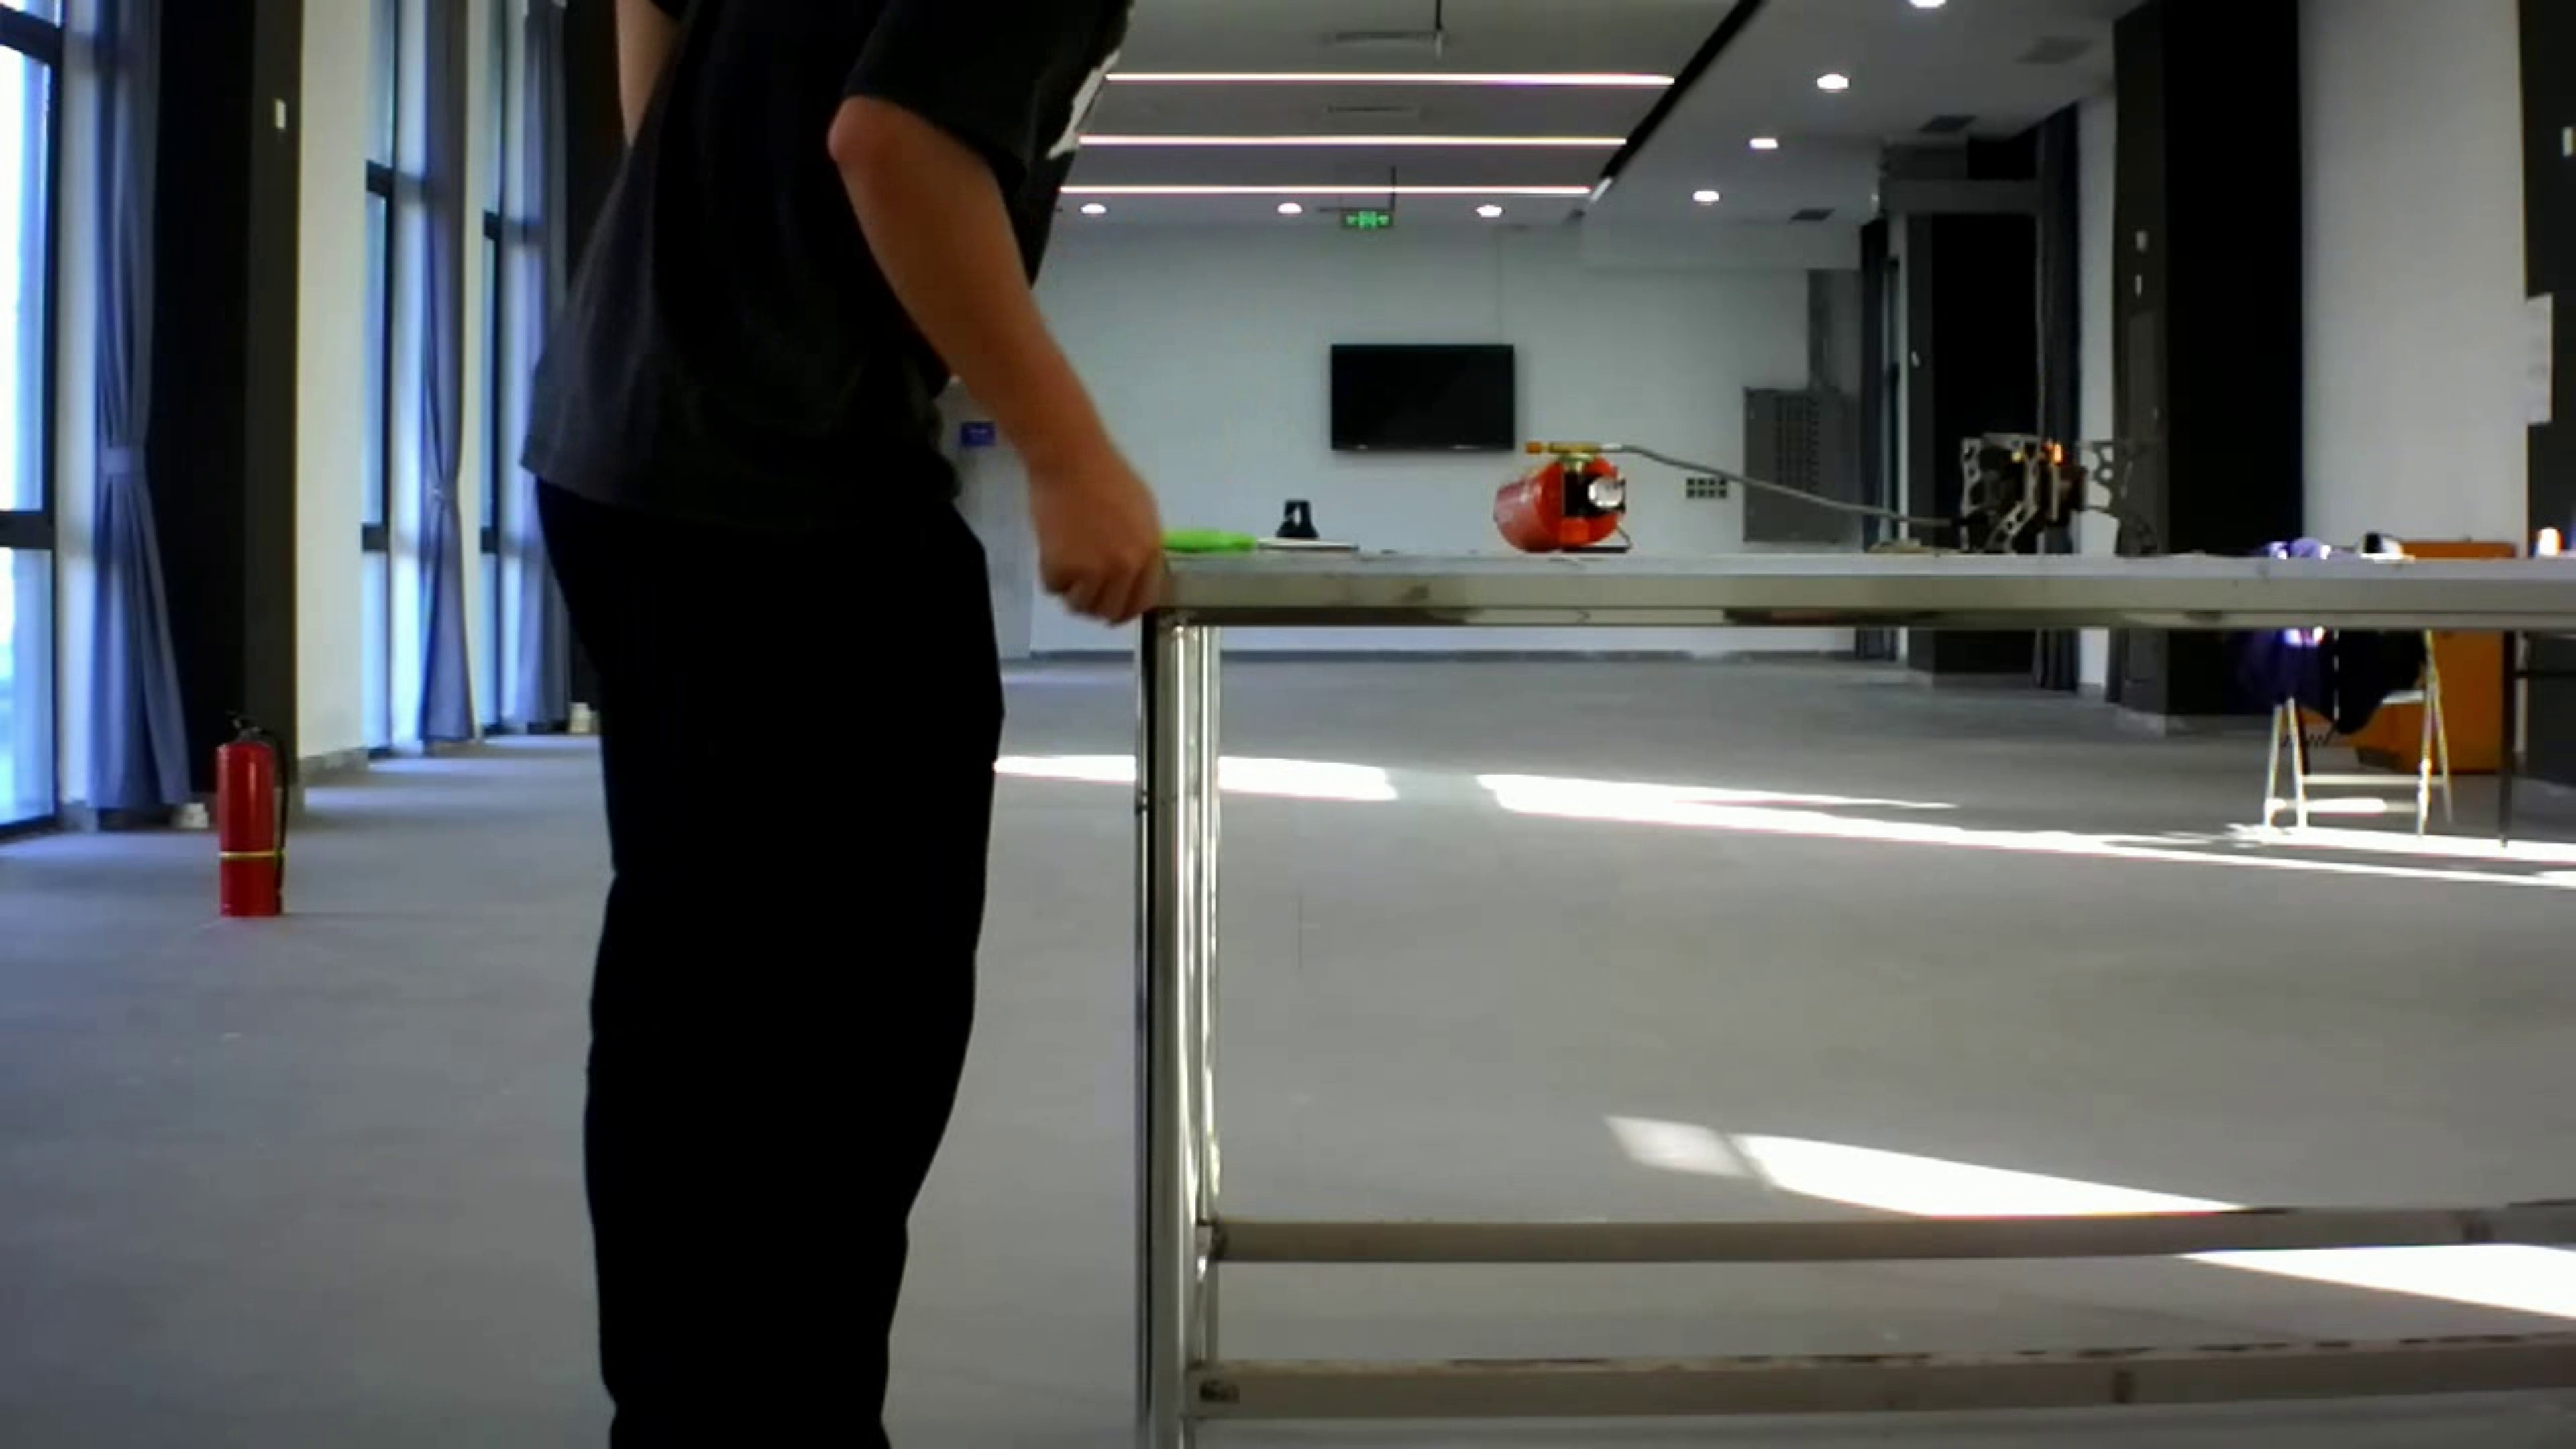Fire: (1985, 402, 2109, 497)
